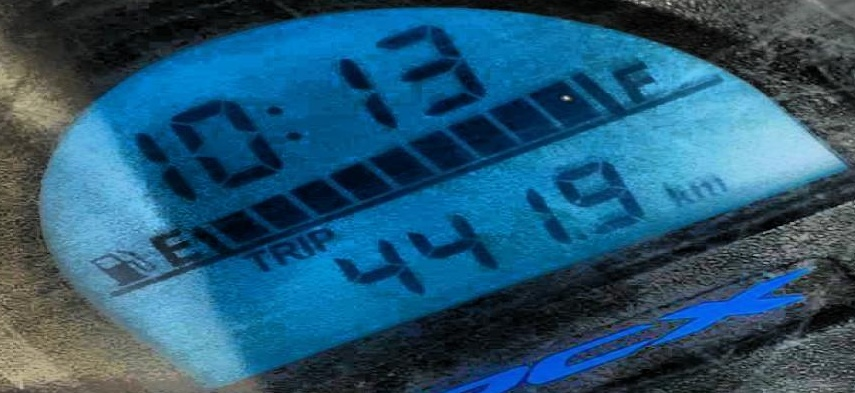-: (571, 229, 588, 242)
0: (163, 97, 288, 190)
1: (113, 126, 193, 213), (328, 48, 400, 132), (508, 174, 579, 257)
3: (366, 21, 493, 121)
4: (402, 211, 504, 275), (327, 239, 428, 302)
9: (555, 156, 650, 234)
X: (253, 94, 321, 146), (603, 57, 666, 104), (142, 225, 203, 269), (235, 248, 274, 270), (266, 241, 303, 264), (662, 181, 694, 207), (305, 227, 339, 251), (690, 176, 728, 196), (291, 232, 315, 257)
